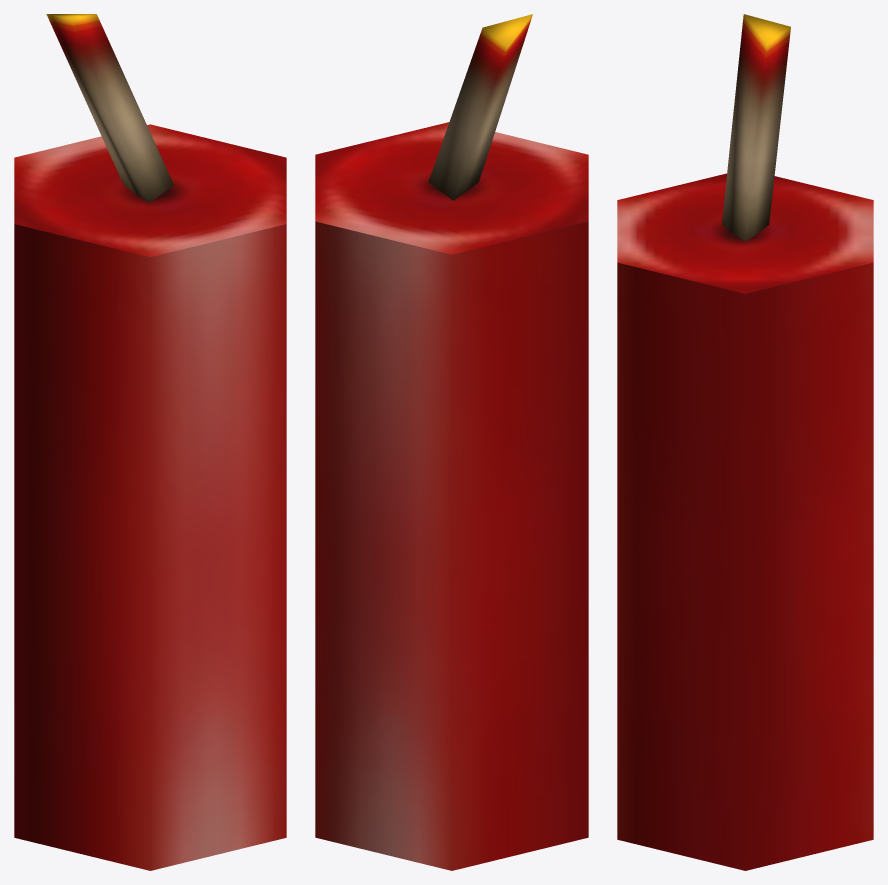
Rendered from bomb.glb.
The picture shows the model from 3 angles, left to right: view 1: azimuth 30°, elevation 25°; view 2: azimuth 150°, elevation 25°; view 3: azimuth 270°, elevation 25°; orthographic projection. The views are drawn at different scales.
Parts seen in each view (by area): view 1: bomb; view 2: bomb; view 3: bomb.
Boxes of the visible parts, bbox=[...] form: bomb: bbox=[14, 14, 286, 870]; bomb: bbox=[315, 14, 588, 870]; bomb: bbox=[617, 14, 873, 870].
Size of the model in its own units: 1.37 by 3.88 by 1.19.
Materials: 1 (1 with a texture image).
